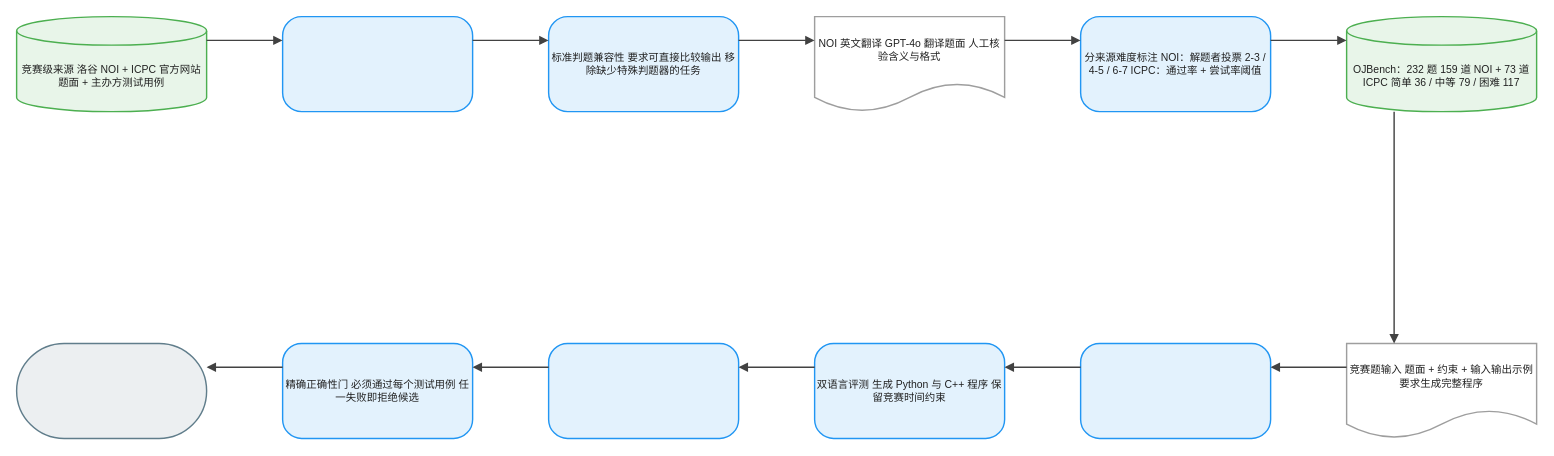
This 1554x456 diagram has some shape labels left out. Here are the shapes that lost their labels. From the top down, the box of each, then its label:
(281, 15, 473, 112): 完整测试验证门 运行选手正确提交 移除不完整或错误测试集
(15, 342, 207, 439): OJBench 结果 Pass@1 与 Pass@8 按语言和难度报告
(547, 342, 739, 439): 执行全部官方测试 在判题环境编译 / 运行 避免少量测试导致假阳性
(1079, 342, 1271, 439): 8 个候选解 API 或 vLLM + 模型官方设置 推理模型最多 64k Token
